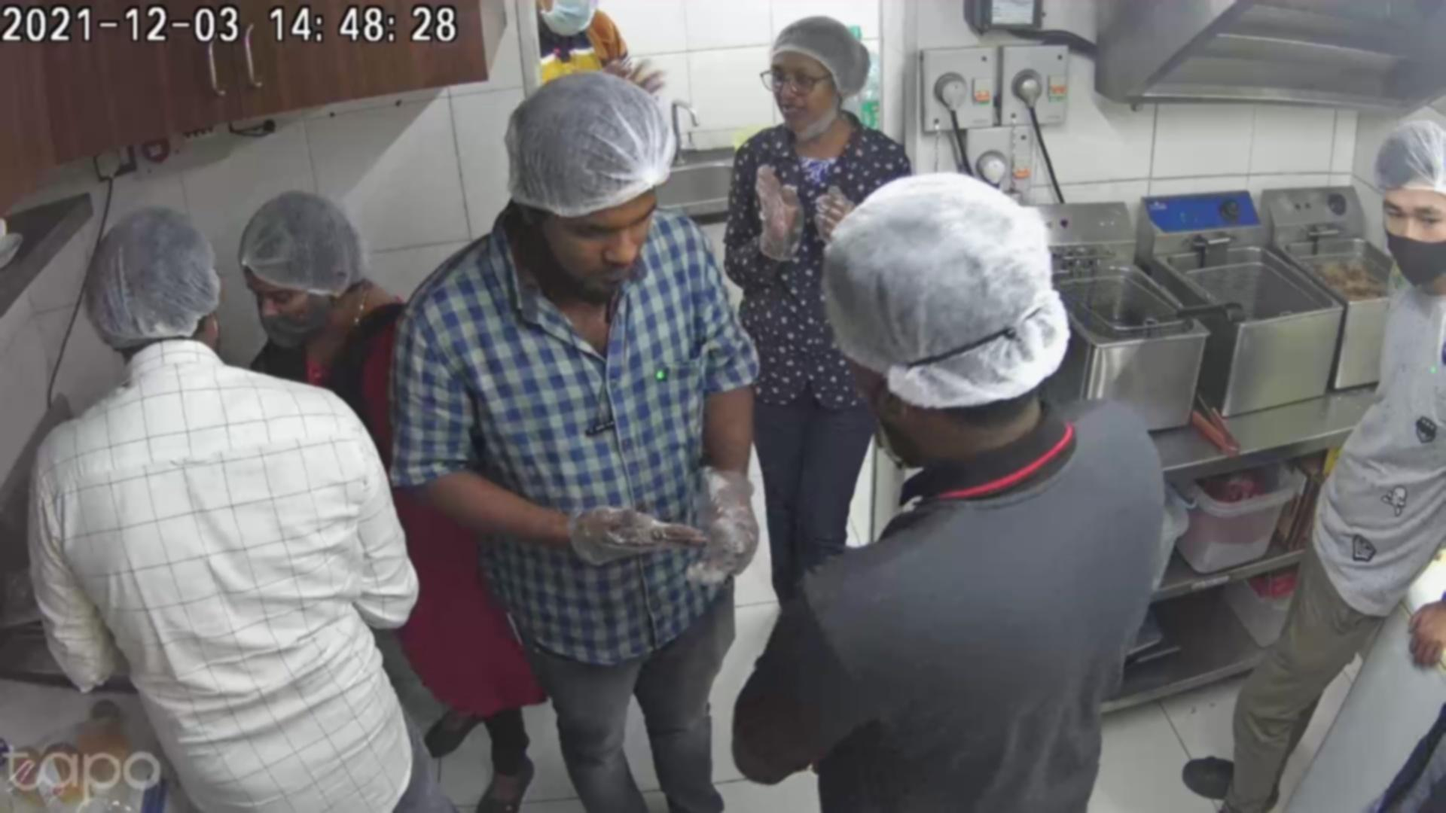apron: (674, 443, 768, 597), (553, 483, 686, 570), (744, 174, 811, 276), (802, 166, 860, 236), (616, 46, 671, 105)
gloves: (844, 181, 1071, 428), (478, 71, 680, 220), (81, 204, 232, 352), (229, 181, 371, 312), (757, 16, 887, 91), (1356, 108, 1446, 203), (1396, 593, 1446, 677)
mask: (1380, 190, 1441, 278), (253, 281, 328, 343)
no_hairnet: (536, 184, 648, 287), (770, 56, 831, 124)
